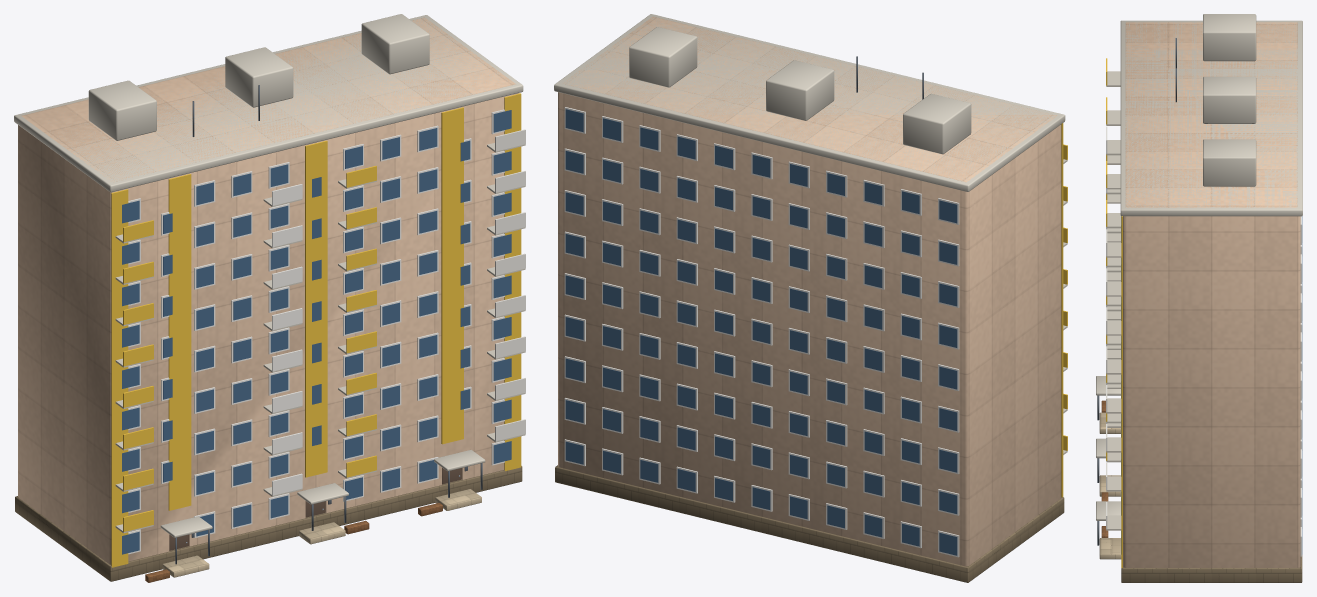
File: panel_d.gltf
The picture shows the model from 3 angles, left to right: view 1: azimuth 30°, elevation 25°; view 2: azimuth 150°, elevation 25°; view 3: azimuth 270°, elevation 25°; orthographic projection. The views are drawn at different scales.
Parts seen in each view (by area): view 1: panel_d_mesh; view 2: panel_d_mesh; view 3: panel_d_mesh.
Boxes of the visible parts, x1,y1,x2,y2 form: panel_d_mesh: (14,14,525,582); panel_d_mesh: (554,14,1067,582); panel_d_mesh: (1096,14,1302,582).
Size of what is drawn, in the model's own units: 30.3 by 30.3 by 13.95.
Materials: 14 (4 with a texture image).
